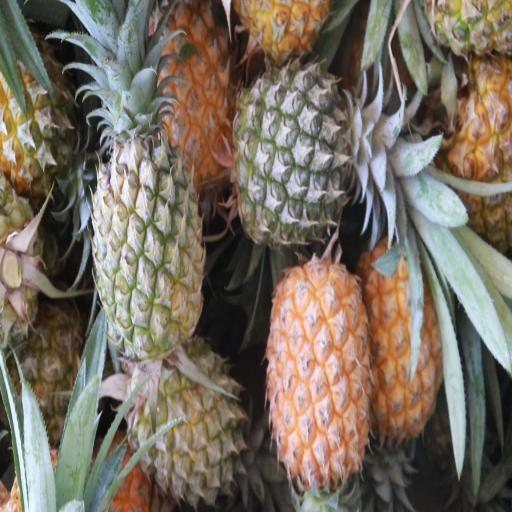Pineapple - v8 v1: (260, 250, 379, 512), (361, 228, 451, 452), (151, 0, 238, 204)
